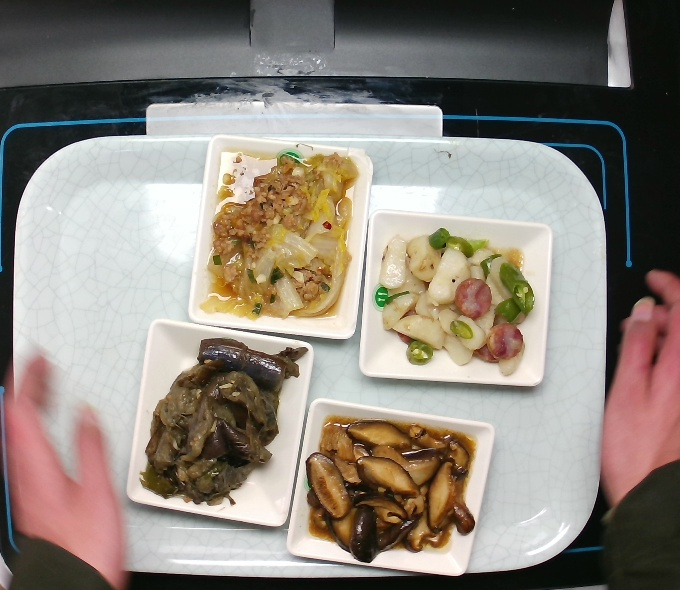wcq-MaTiGuo: (368, 227, 538, 382)
wcq-MoGu: (299, 408, 482, 567)
wcq-QieZi: (134, 330, 312, 516)
wcq-RouMoBaiCai: (190, 143, 361, 330)
